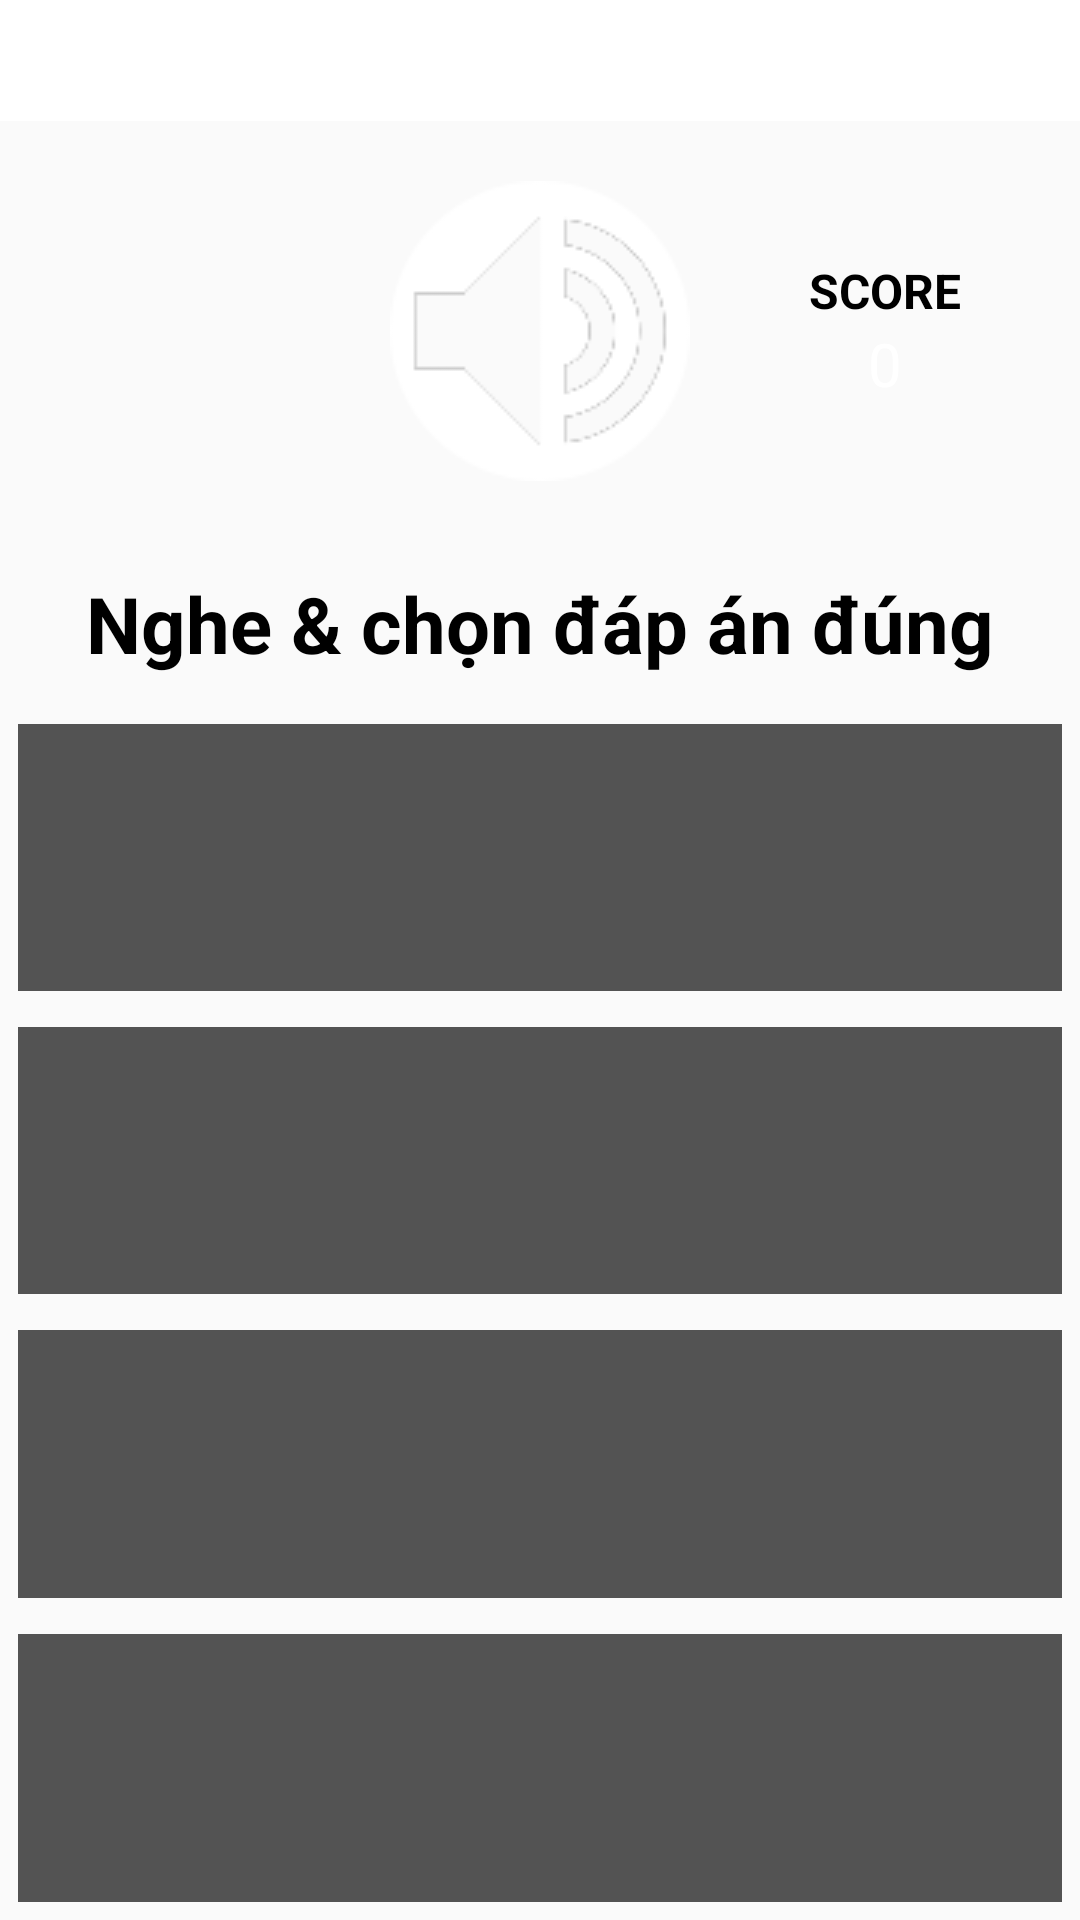

Icon click points for this 1080px x 1920px phone screenshot, format [x,y]:
sound: [540,331]
